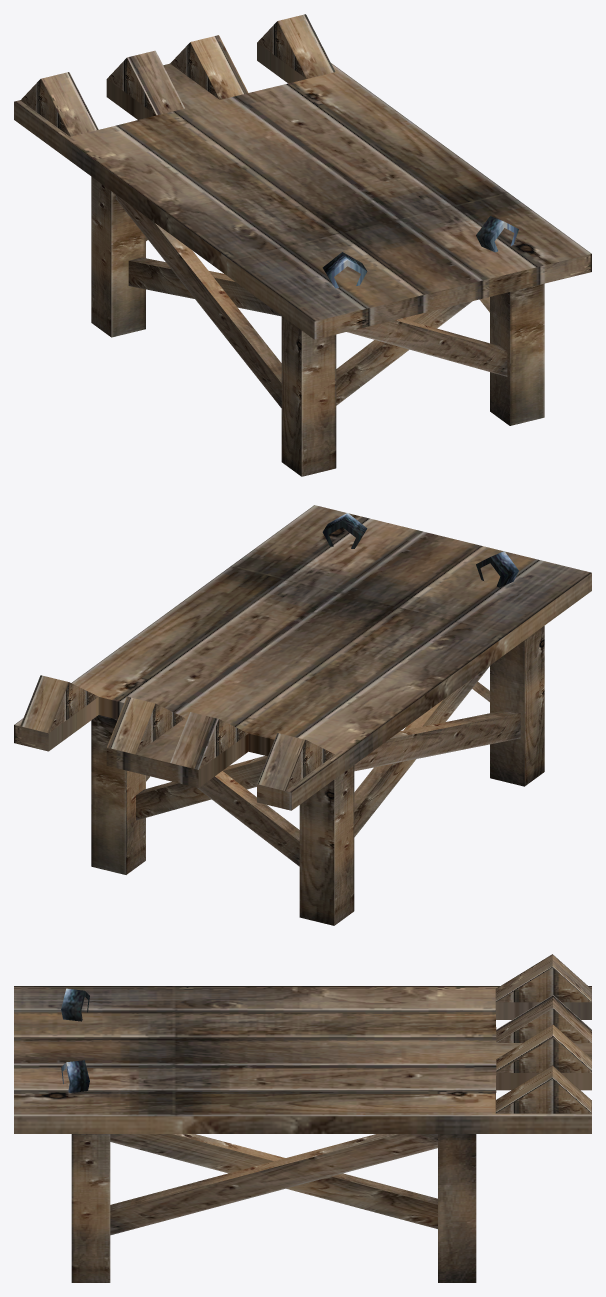
The model's file is building_torture_streching.glb.
3 renders of one model, top to bottom at view 1: azimuth 30°, elevation 25°; view 2: azimuth 150°, elevation 25°; view 3: azimuth 270°, elevation 25°, orthographic. The views are drawn at different scales.
Visible parts, largest first — view 1: building_torture_streching; view 2: building_torture_streching; view 3: building_torture_streching.
Boxes of the visible parts, box(x1,y1,x2,y2) form: building_torture_streching: box(14, 14, 591, 476); building_torture_streching: box(14, 505, 591, 925); building_torture_streching: box(14, 954, 591, 1282).
Size of the model in its own units: 1.6 by 1.2 by 3.
2 materials, 2 textured.
